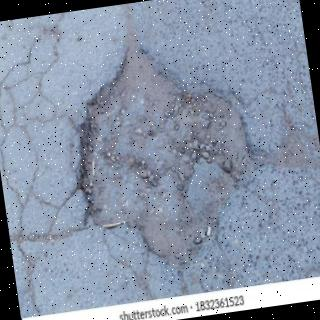pothole: (76, 46, 265, 258)
